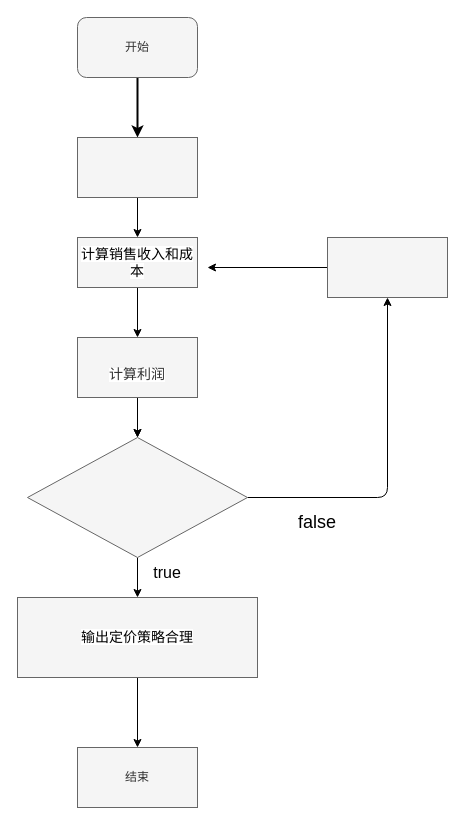
This 465x825 diagram has some shape labels left out. The centre of each missing label's shape, as x and y in pixels:
判断盈利率是否达到10%以上: the point at 137,497
调整定价策略: the point at 387,267
输入流量卡价格信息和销售数据: the point at 137,167
